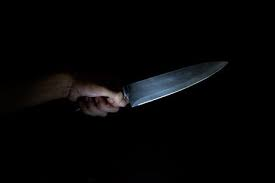knife: (60, 55, 233, 120)
